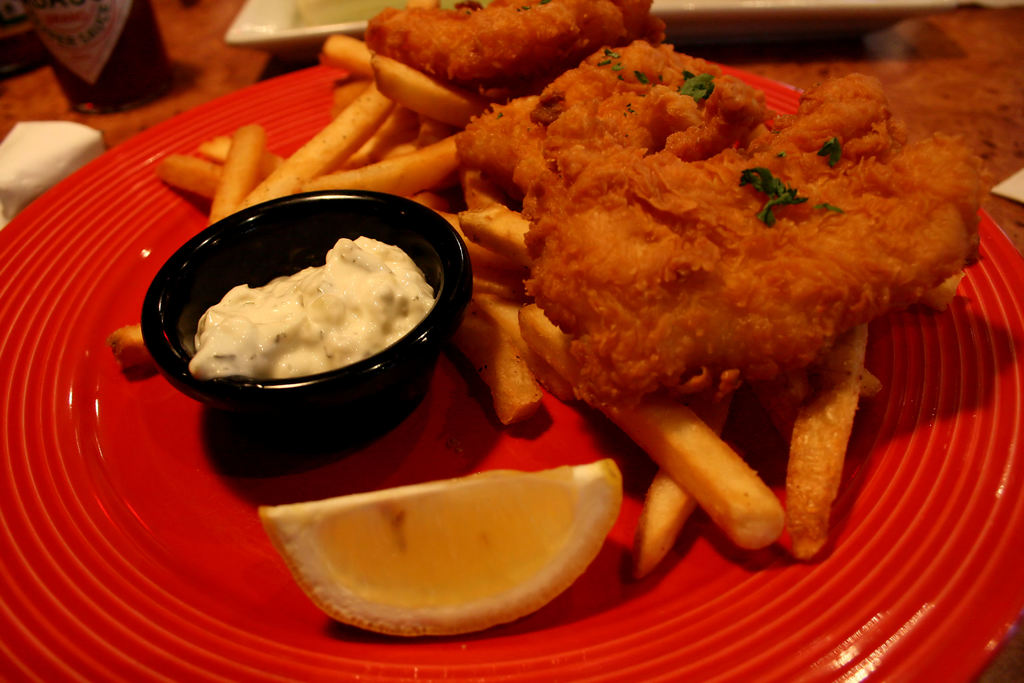French fries: (102, 20, 965, 610)
